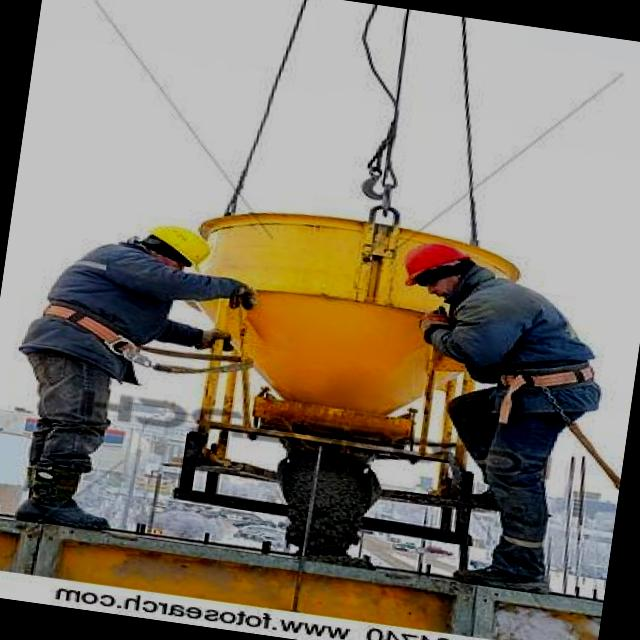helmet: (389, 235, 486, 304), (137, 218, 230, 271)
no-vest: (416, 272, 594, 444), (22, 246, 204, 392)
